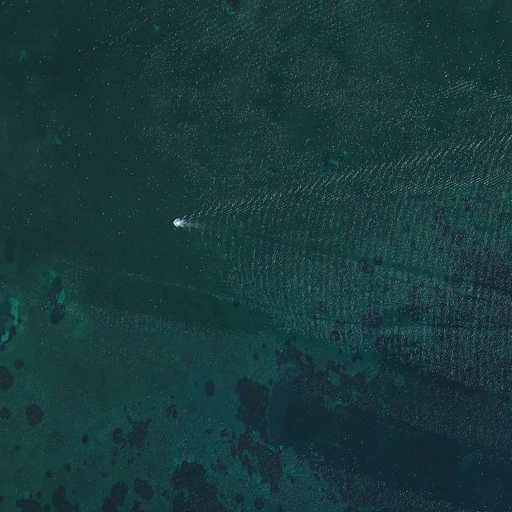ship: (172, 216, 183, 231)
